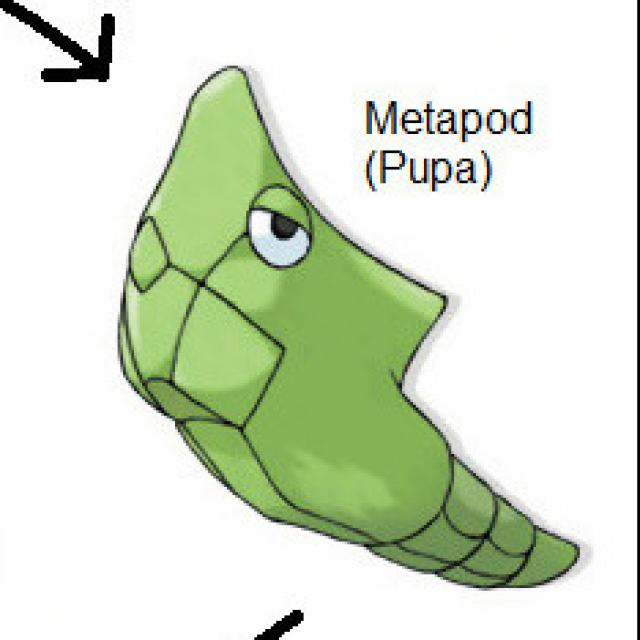Metapod: (125, 66, 582, 595)
